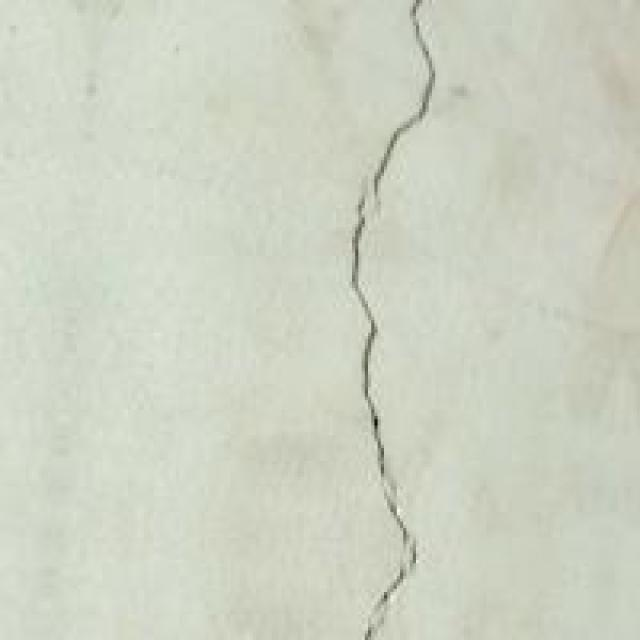crack: (333, 0, 496, 637)
